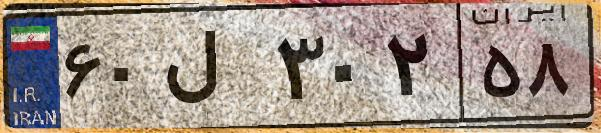0: (330, 28, 385, 110), (110, 28, 158, 98)
2: (385, 28, 445, 110)
3: (270, 28, 330, 110)
5: (475, 38, 525, 113)
6: (57, 26, 110, 100)
8: (525, 38, 570, 115)
ل: (158, 20, 270, 120)
